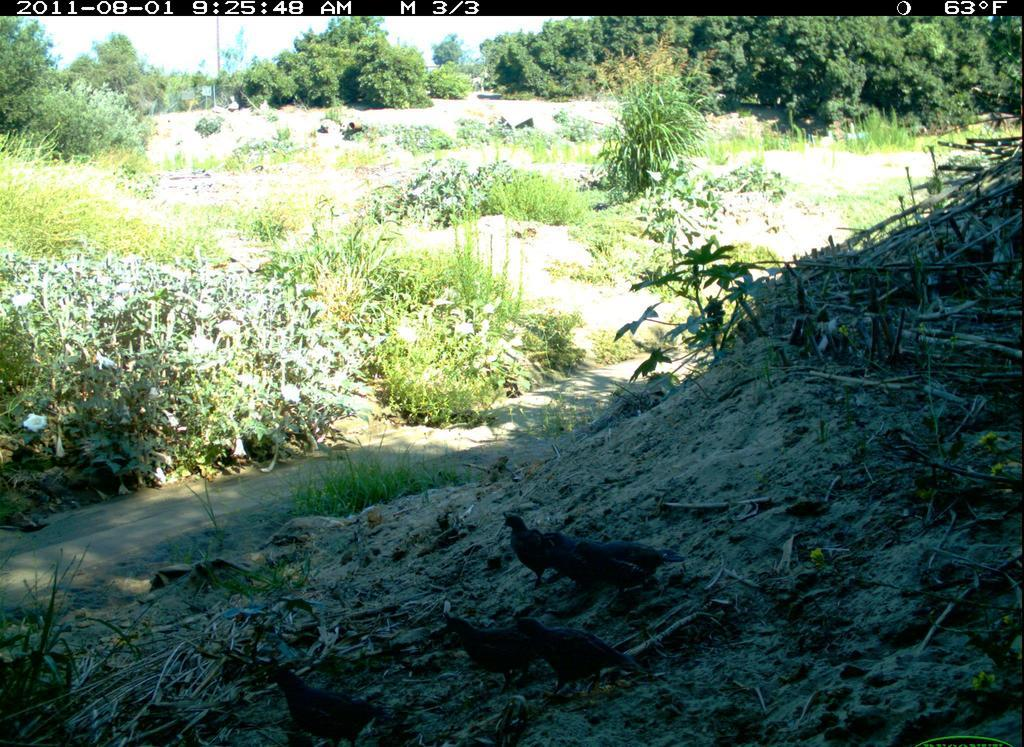bird: (524, 522, 620, 597)
